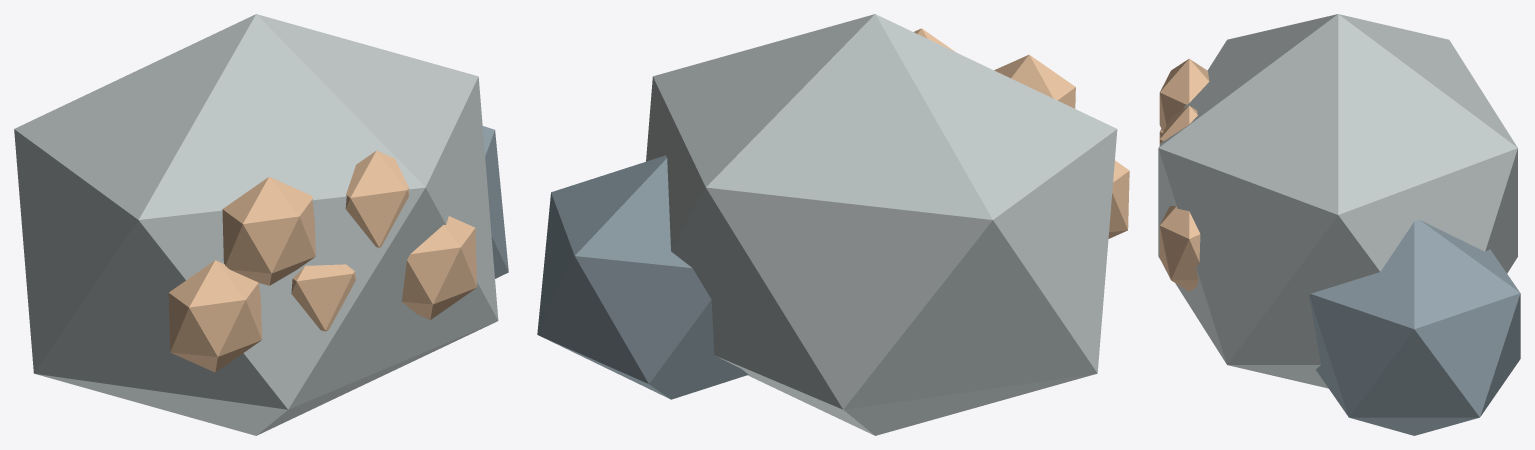
File: ore_iron.fbx
3 views of the same model, side by side, from view 1: azimuth 30°, elevation 25°; view 2: azimuth 150°, elevation 25°; view 3: azimuth 270°, elevation 25° (orthographic). The views are drawn at different scales.
Parts seen in each view (by area): view 1: ore_iron_mesh; view 2: ore_iron_mesh; view 3: ore_iron_mesh.
Part boxes in pixels (x1,y1,x2,y2): ore_iron_mesh: [14, 14, 508, 435]; ore_iron_mesh: [537, 14, 1129, 435]; ore_iron_mesh: [1158, 14, 1520, 435].
Bounding box in the file's own units: 1.5 × 1.2 × 1.05.
